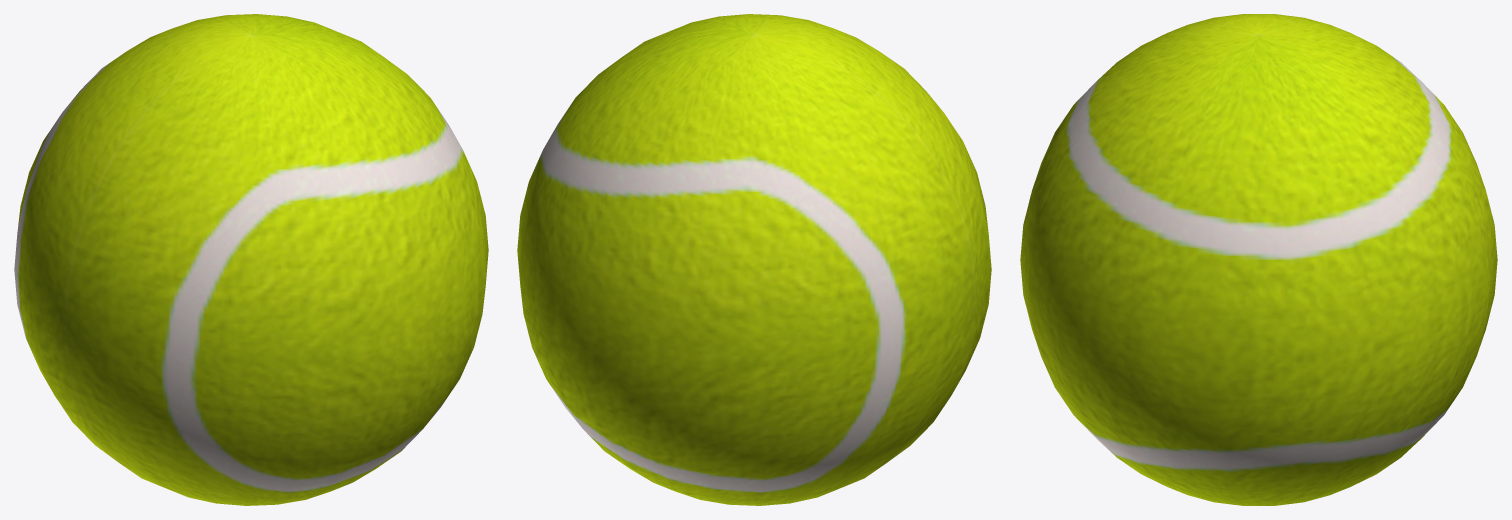
File: BALL TENNIS SKIN.fbx
3 views of the same model, side by side, from view 1: azimuth 30°, elevation 25°; view 2: azimuth 150°, elevation 25°; view 3: azimuth 270°, elevation 25° (orthographic).
Parts seen in each view (by area): view 1: Sphere; view 2: Sphere; view 3: Sphere.
Boxes of the visible parts, left/top/right/bottom form: Sphere: left=14, top=14, right=488, bottom=505; Sphere: left=517, top=14, right=991, bottom=505; Sphere: left=1020, top=14, right=1497, bottom=505.
Size of the model in its own units: 186 by 194 by 184.
1 material, 1 textured.
